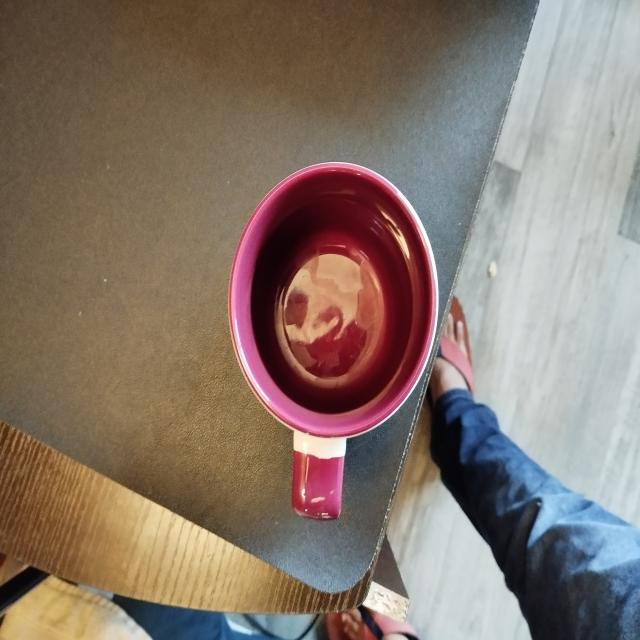Cup: (212, 138, 453, 536)
